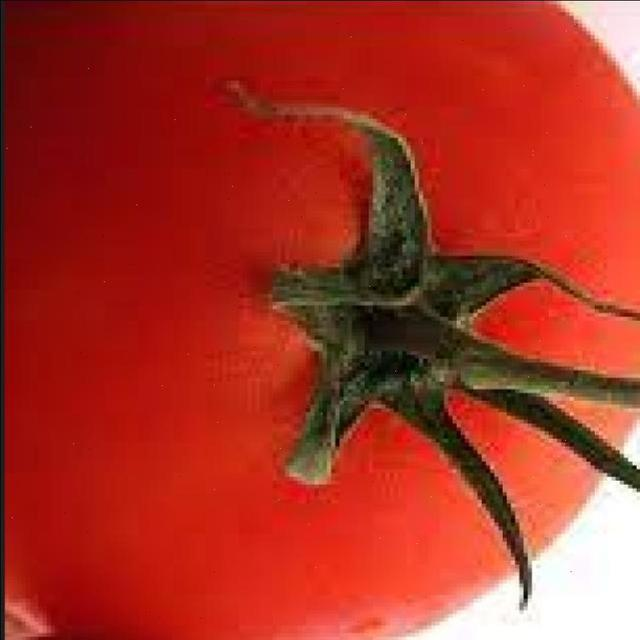Healthy Fruit: (9, 0, 427, 422)
